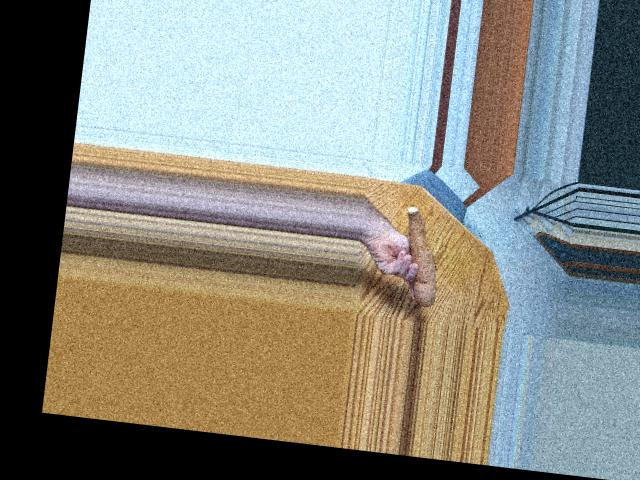sweet_potato: (392, 203, 449, 306)
